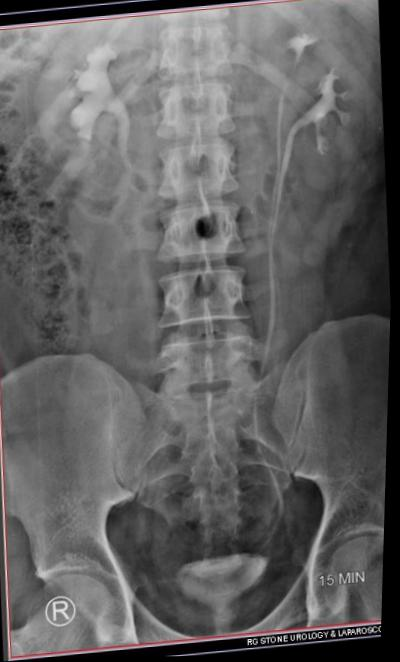bladder: (144, 547, 288, 647)
right kidney: (19, 17, 142, 183)
vertebrae: (152, 76, 236, 142)
